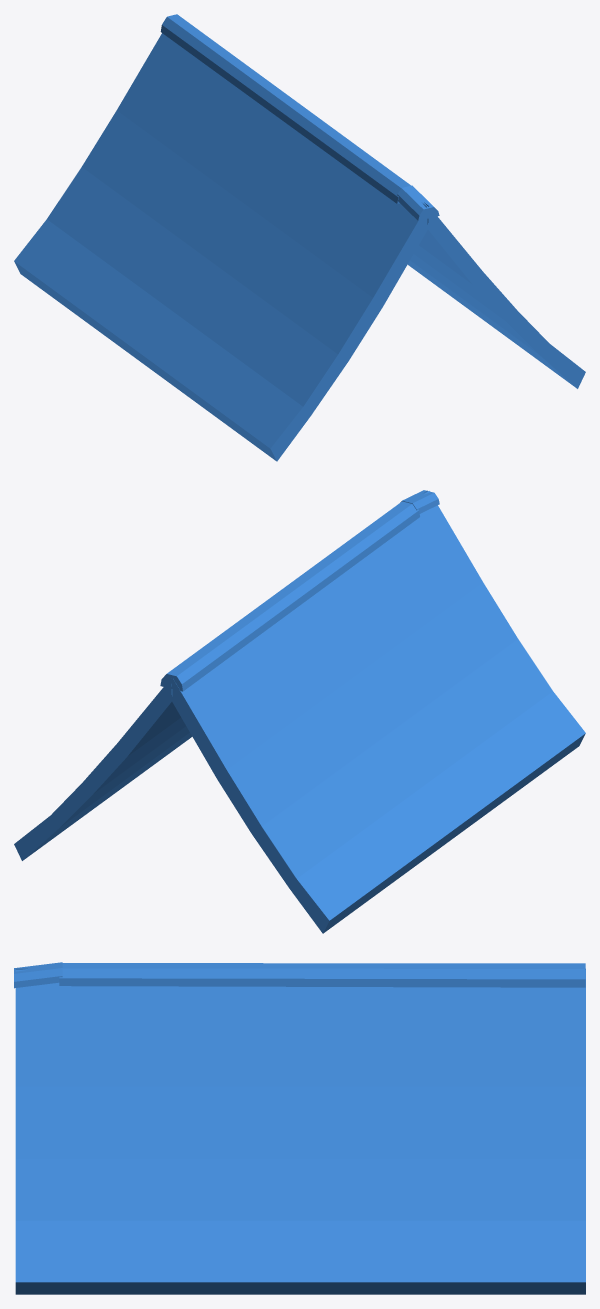
Rendered from Collision_Roof_RoundTiles_8x12.fbx.
3 renders of one model, top to bottom at view 1: azimuth 30°, elevation 25°; view 2: azimuth 150°, elevation 25°; view 3: azimuth 270°, elevation 25°, orthographic. The views are drawn at different scales.
Parts seen in each view (by area): view 1: UCX_Roof_RoundTiles_8x12_01; view 2: UCX_Roof_RoundTiles_8x12_01; view 3: UCX_Roof_RoundTiles_8x12_01.
Boxes of the visible parts, bbox=[...] form: UCX_Roof_RoundTiles_8x12_01: bbox=[14, 14, 585, 461]; UCX_Roof_RoundTiles_8x12_01: bbox=[14, 490, 585, 933]; UCX_Roof_RoundTiles_8x12_01: bbox=[14, 962, 585, 1294].
Size of the model in its own units: 996 by 674 by 1406.
